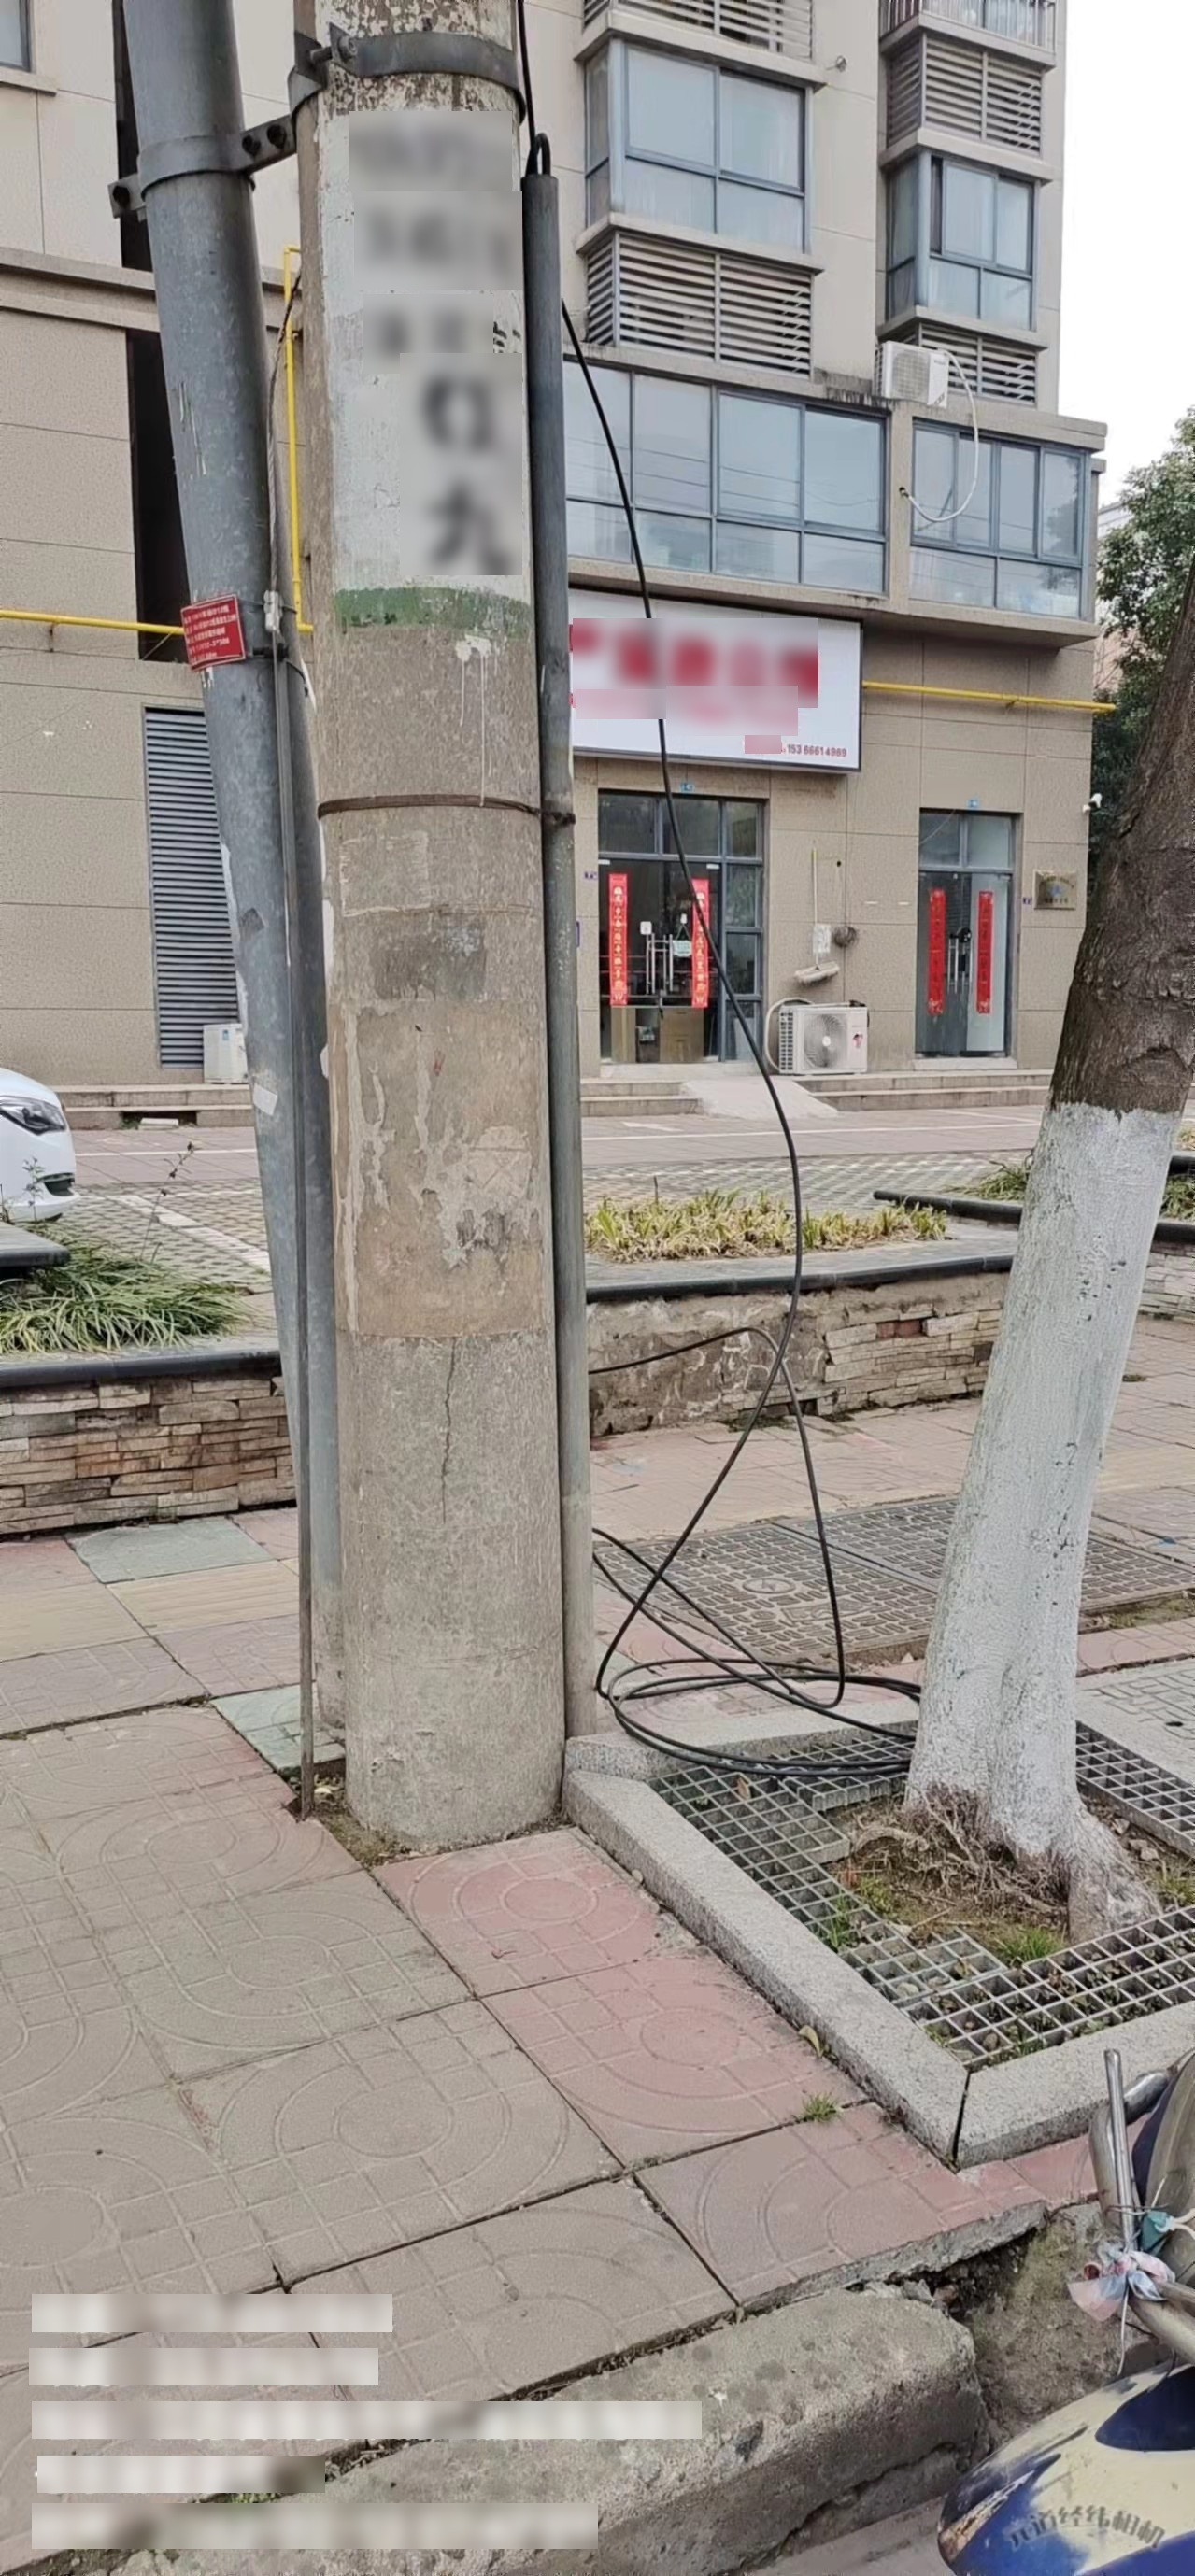good: (592, 1487, 1195, 1672)
